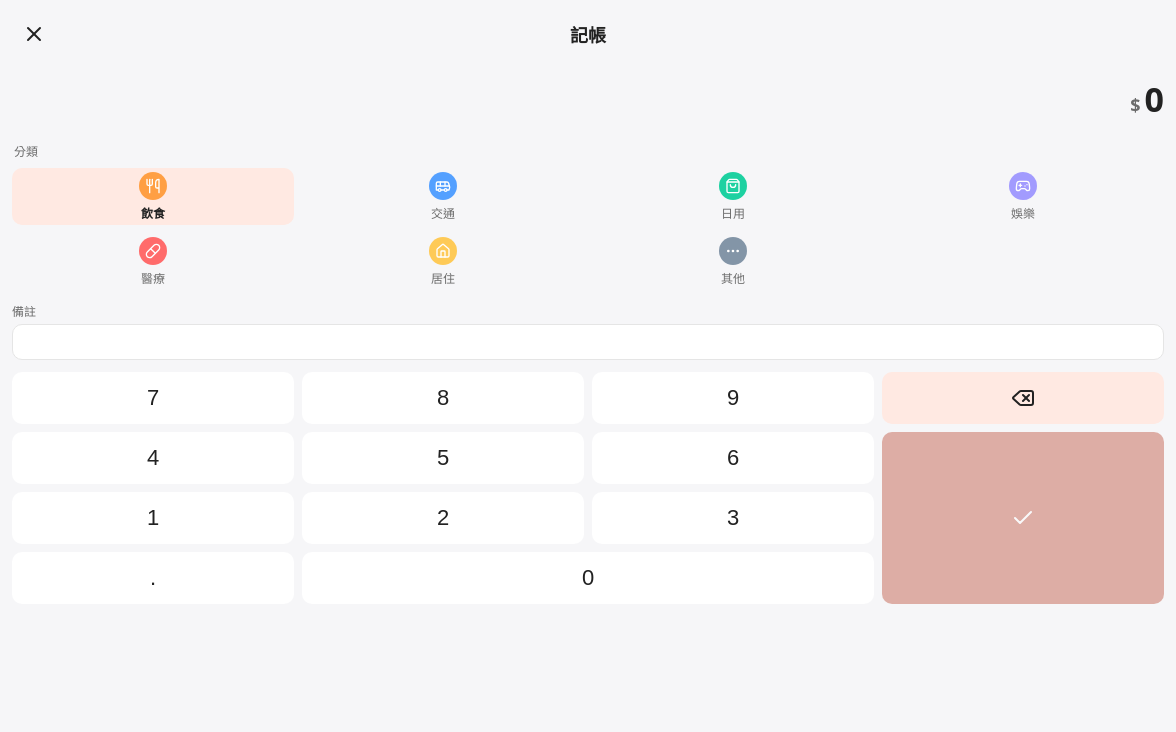
Test: 記帳 /expenses/new › 後端拒絕金額時顯示具體訊息，金額不清掉
This screenshot has width=1176, height=732.
Click the button "2".
click(443, 518)  # box [302,492,584,544]
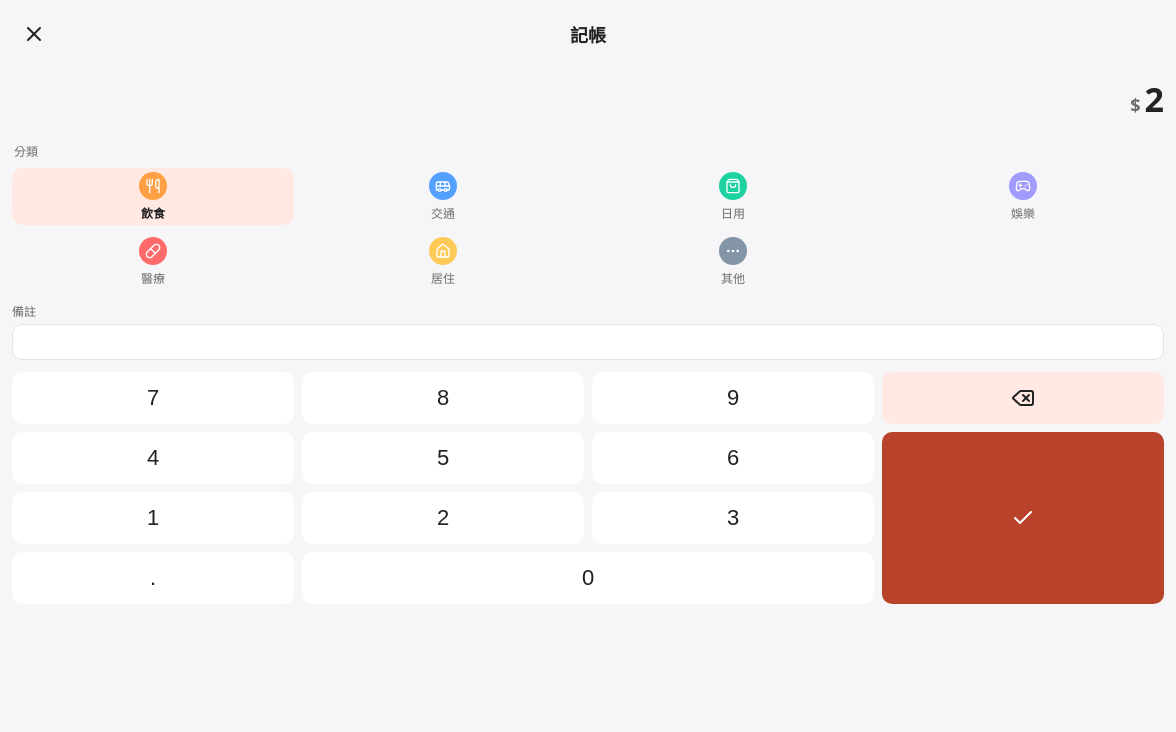
Click the button "5".
click(443, 458)  # box [302,432,584,484]
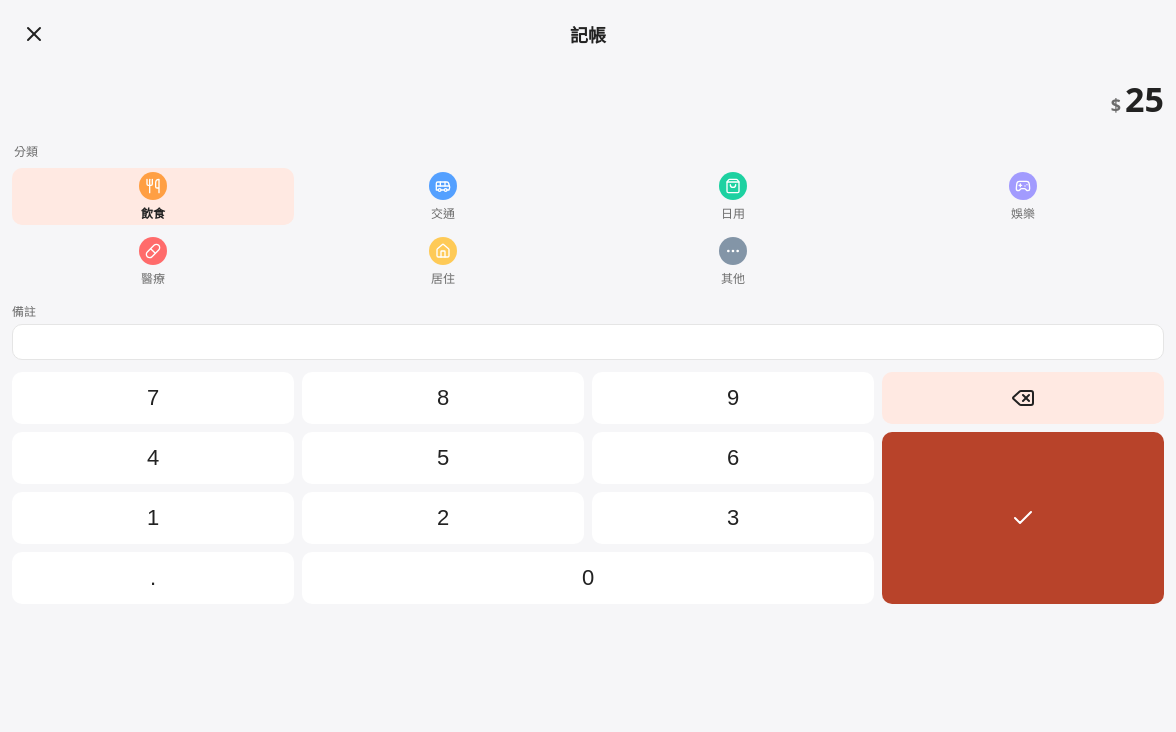
Click the button "0".
click(588, 578)  # box [302,552,874,604]
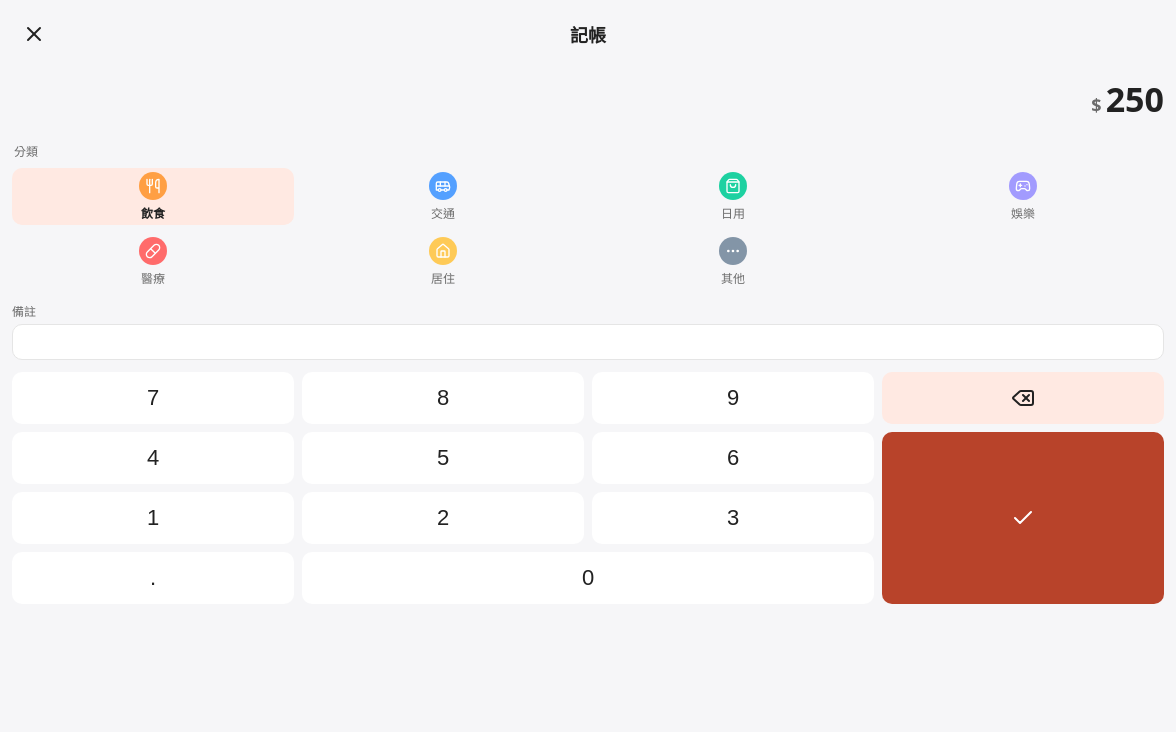
Click the button "交通".
click(443, 196)  # box [302,168,584,225]
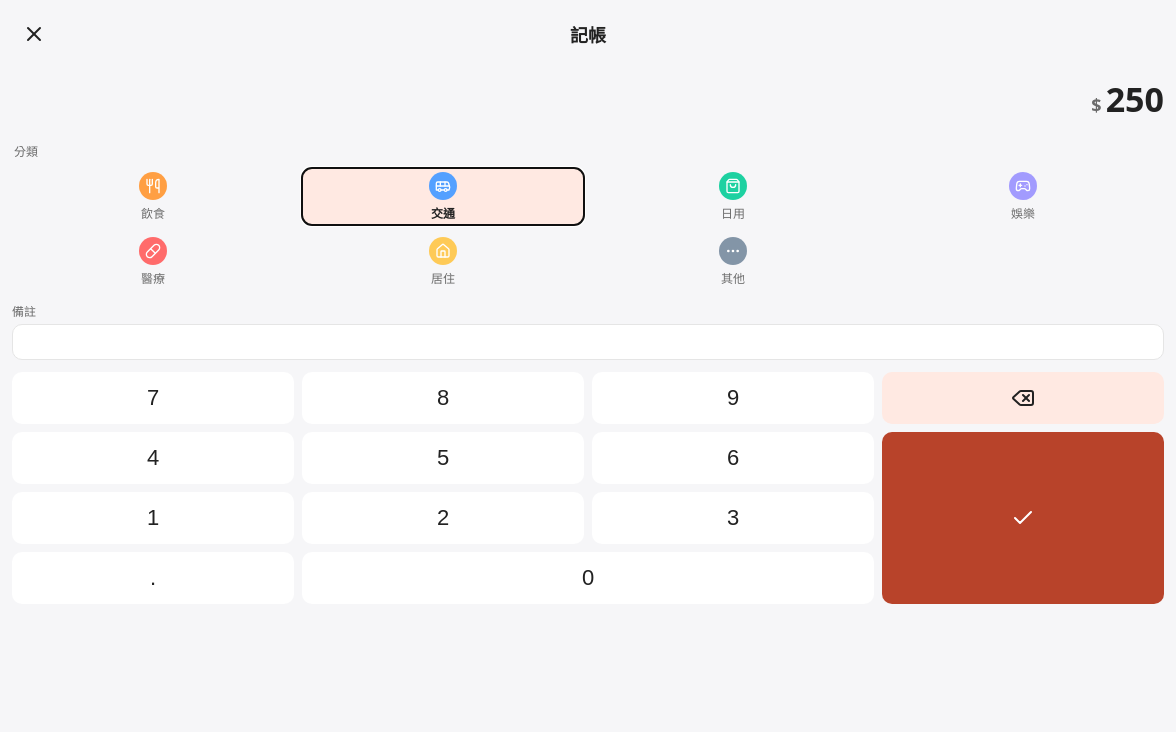
Click the button named "記一筆".
click(1023, 518)  # box [882,432,1164,604]
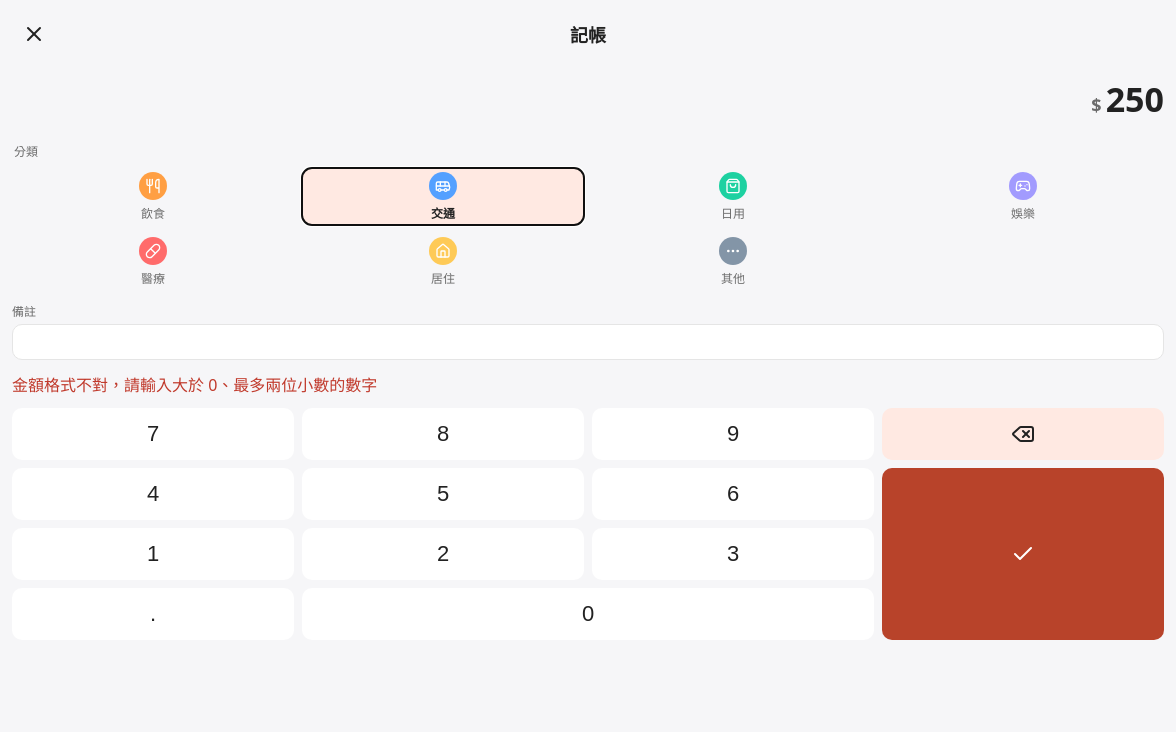
Result: the element named "金額" shows "250" at [1106,76,1164,122]
Result: the message reads "金額格式不對，請輸入大於 0、最多兩位小數的數字" at [12,374,377,396]
